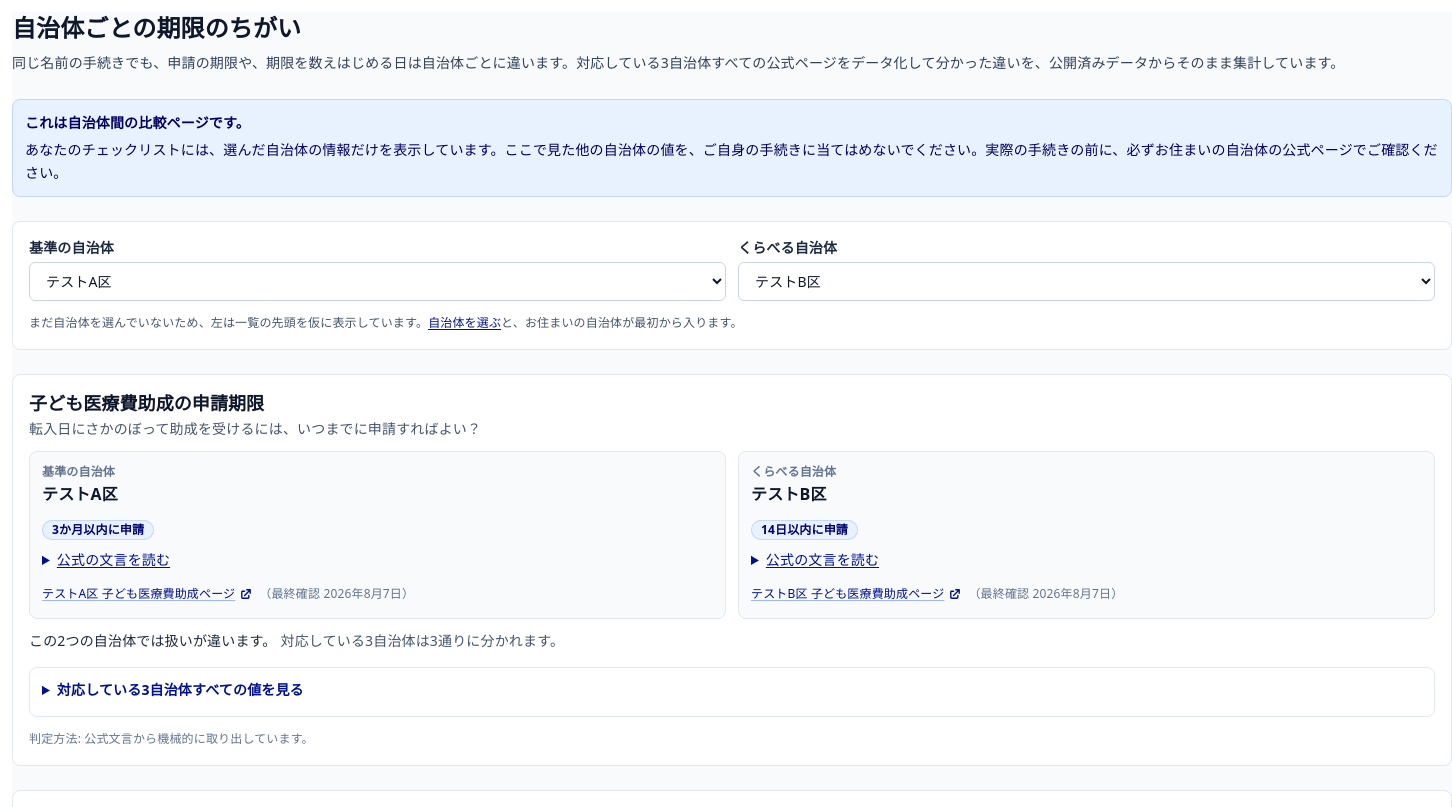
Test: 自治体ごとの期限のちがい(比較ページ) › 選んだ2区の扱いが違うことを言葉で伝える
Expected: the heading "子ども医療費助成の申請期限" is shown, [29, 391, 264, 415]
Select "テストA区" in the dropdown labelled "基準の自治体" at (378, 282), box [29, 262, 726, 301]
Select "テストB区" in the dropdown labelled "くらべる自治体" at (1086, 282), box [738, 262, 1435, 301]
Expected: the text "この2つの自治体では扱いが違います。対応している3自治体は3通りに分かれます。" is shown, [29, 631, 564, 650]
Select "テストA区" in the dropdown labelled "くらべる自治体" at (1086, 282), box [738, 262, 1435, 301]
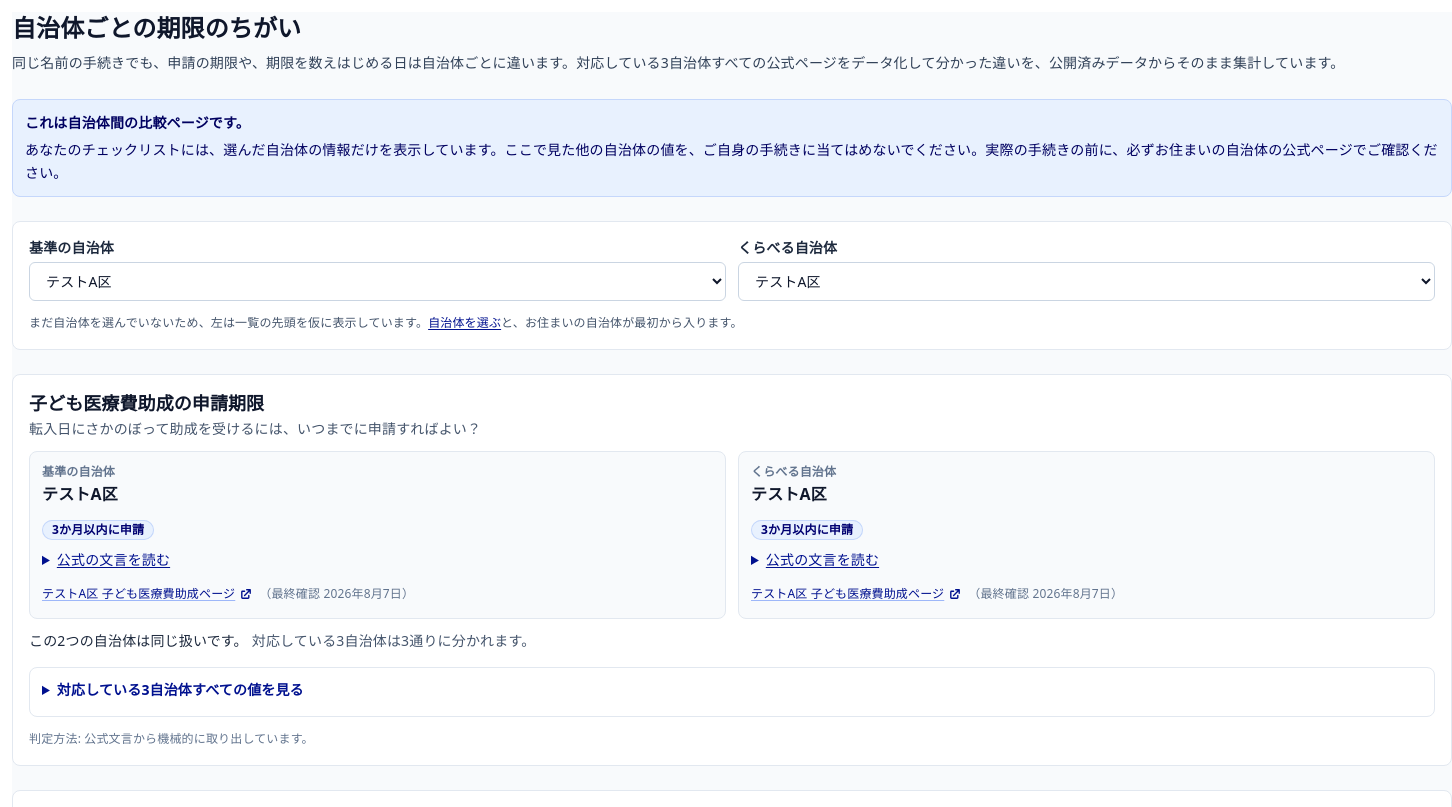
Now the text "この2つの自治体は同じ扱いです。対応している3自治体は3通りに分かれます。" is shown, box [29, 631, 535, 650]
